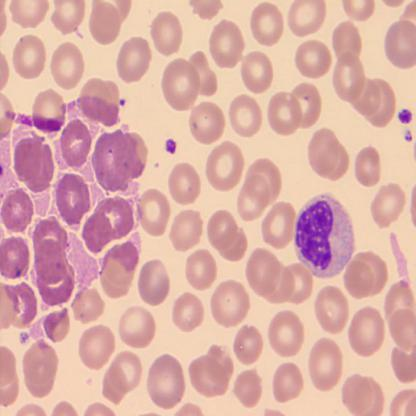Metamyelocyte: (294, 192, 358, 283)
